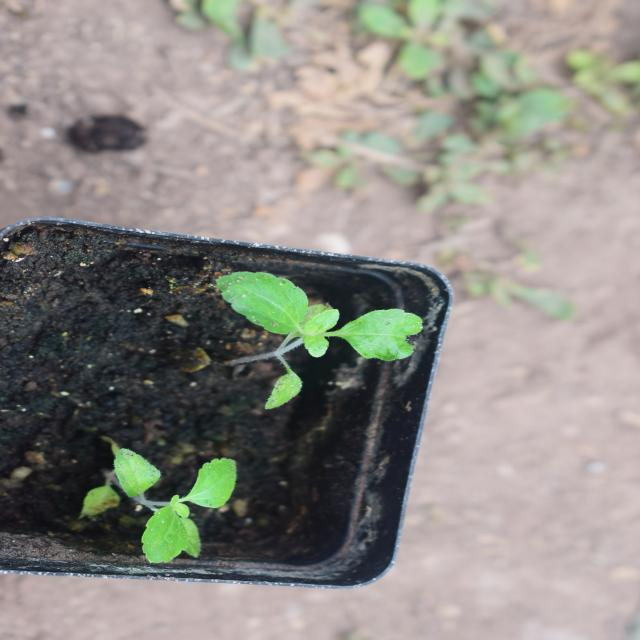billygoat_weed: (272, 214, 404, 433), (456, 379, 559, 558)
